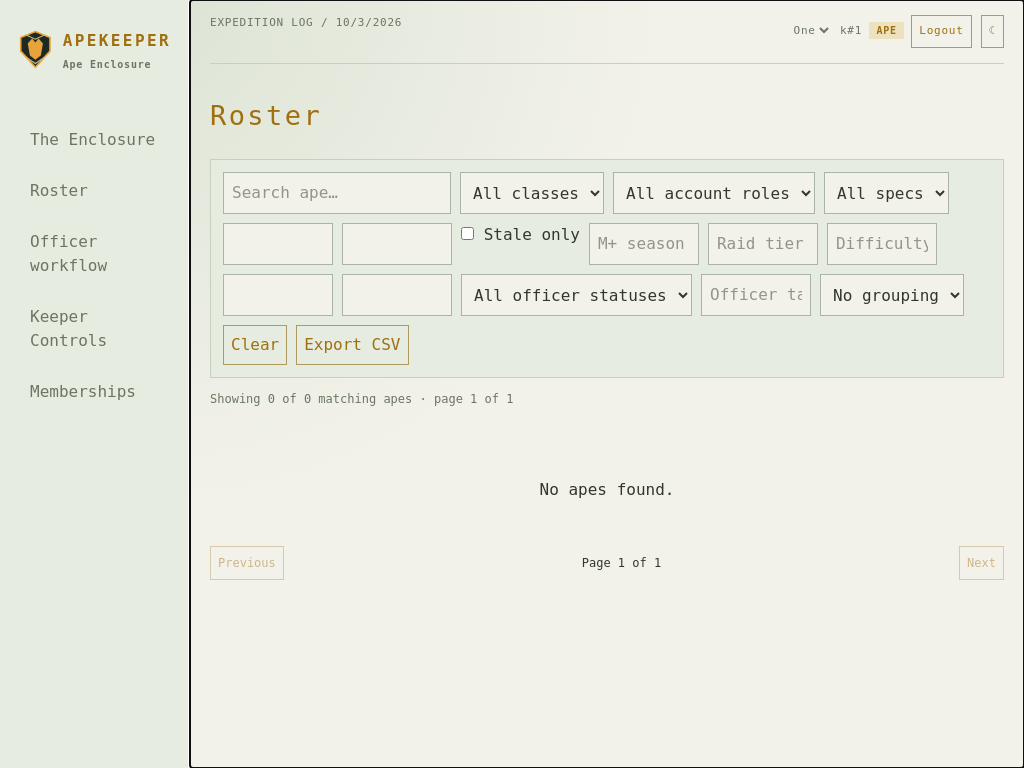
Scenario: App resilience and navigation › shows guild-switch failures accessibly
Select "Two" in the dropdown named "Current guild". click: (811, 30)
box: 790,23 -> 832,38
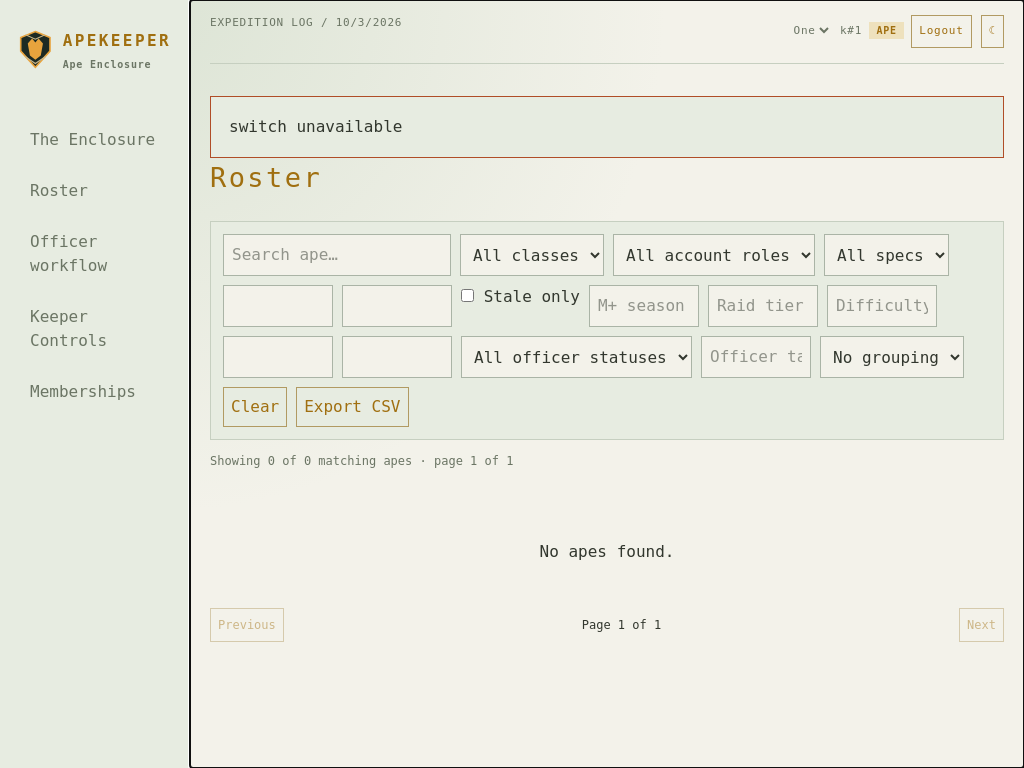
Now the message "switch unavailable" is shown, box 210,96 -> 1004,158
